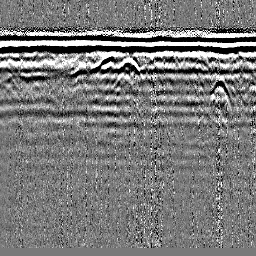cavity: (117, 55, 140, 76)
